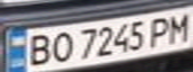2: (93, 23, 118, 57)
4: (112, 19, 133, 54)
5: (127, 18, 151, 52)
7: (75, 25, 100, 61)
B: (21, 32, 54, 68)
M: (163, 10, 193, 44)
O: (48, 29, 75, 64)
P: (145, 15, 175, 47)
